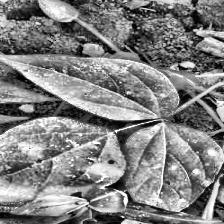Bean Rust: (0, 49, 178, 118), (0, 119, 126, 204), (126, 123, 224, 224)
